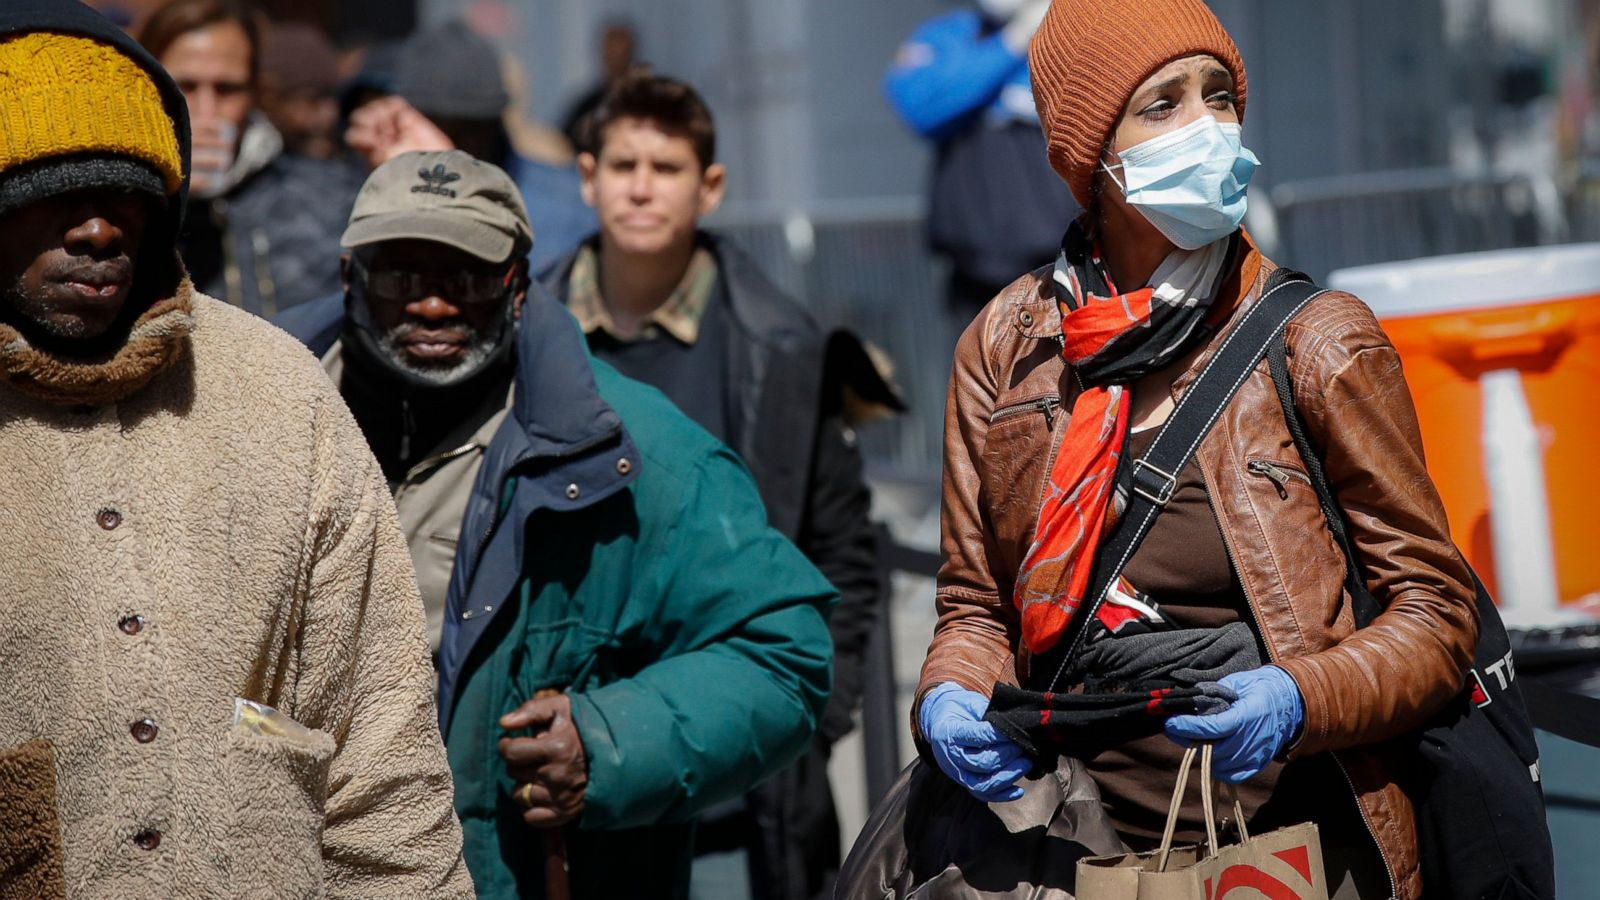with_mask: (1119, 59, 1260, 254)
without_mask: (6, 182, 164, 340), (366, 244, 508, 384)
